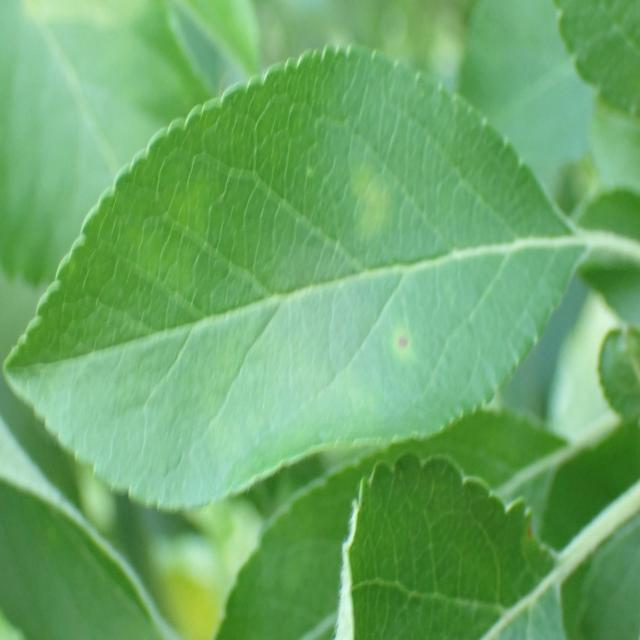scab: (95, 128, 522, 436)
